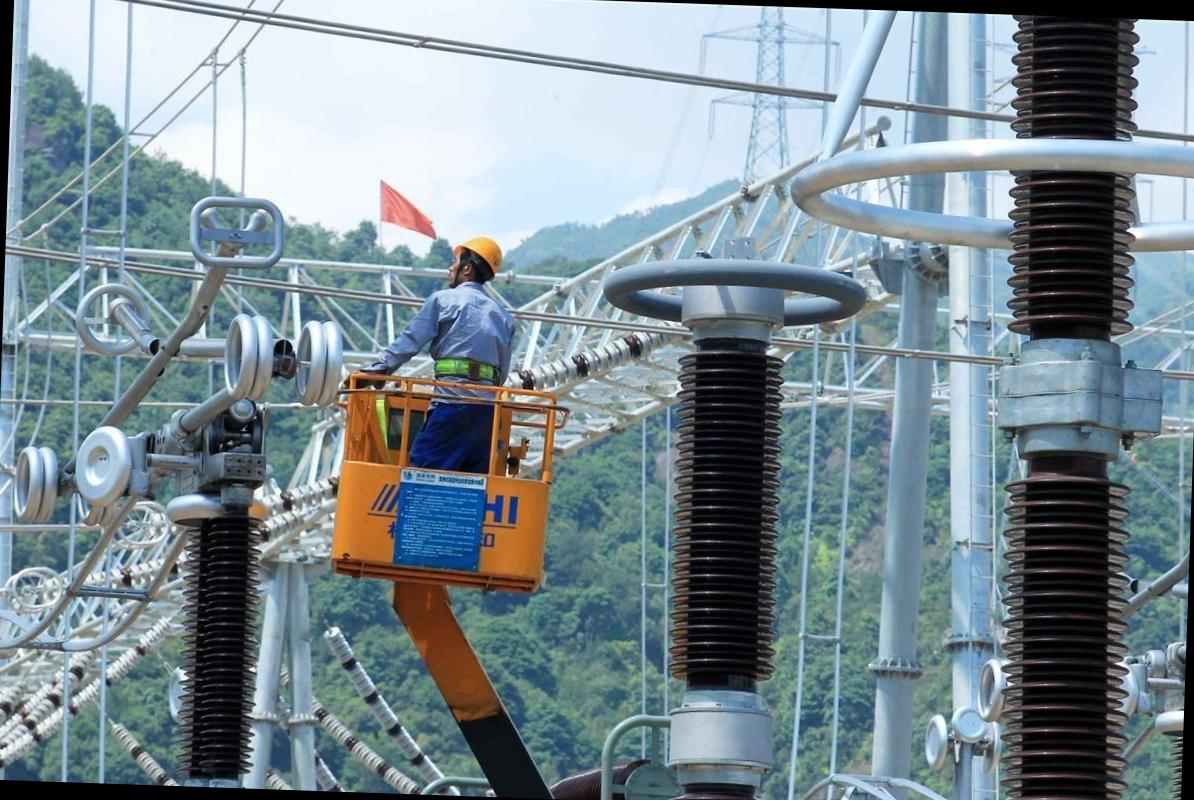helmet: (445, 230, 508, 282)
no_vest: (420, 274, 508, 396)
person: (401, 228, 530, 482)
